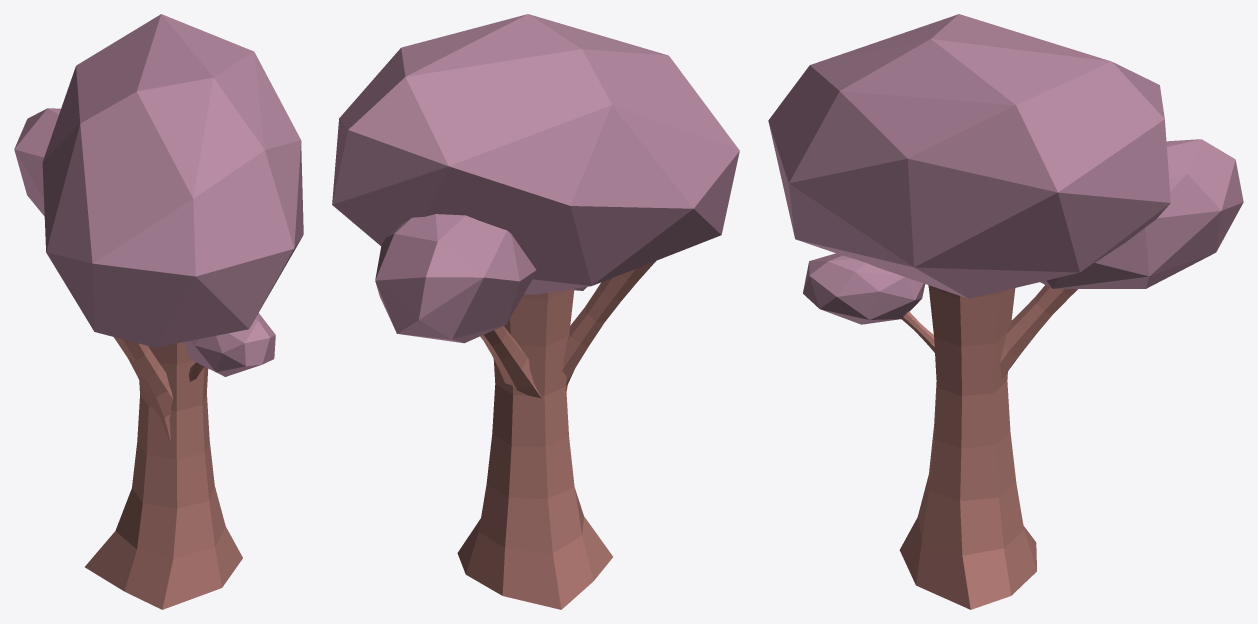
The model's file is ArbolRosa.fbx.
The picture shows the model from 3 angles, left to right: view 1: azimuth 30°, elevation 25°; view 2: azimuth 150°, elevation 25°; view 3: azimuth 270°, elevation 25°; orthographic projection. The views are drawn at different scales.
Parts seen in each view (by area): view 1: Cube.005; view 2: Cube.005; view 3: Cube.005.
Boxes of the visible parts, box(x1,y1,x2,y2) form: Cube.005: box(14, 14, 303, 609); Cube.005: box(332, 14, 739, 609); Cube.005: box(768, 14, 1243, 609).
Bounding box in the file's own units: 300 × 516 × 408.
